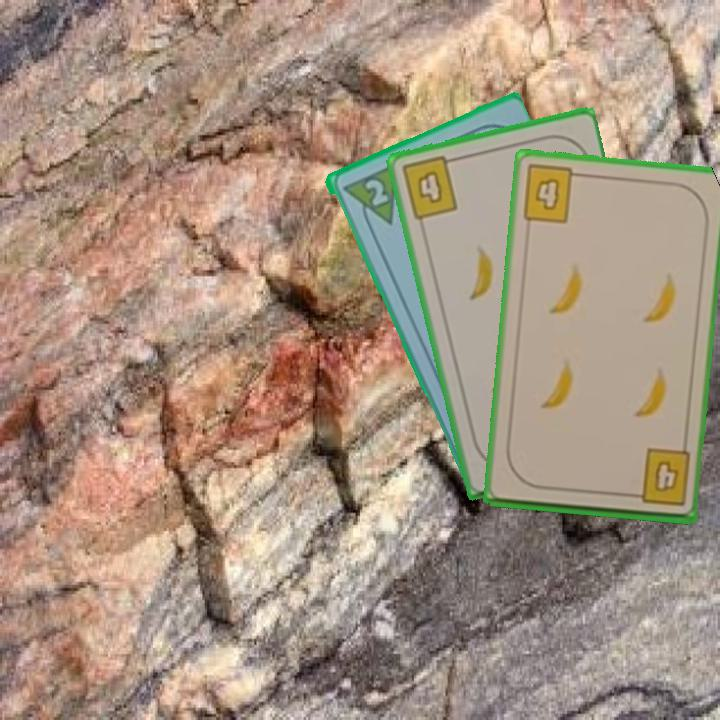2p: (338, 160, 400, 235)
4b: (397, 153, 461, 223), (518, 161, 586, 226), (624, 445, 693, 509)
